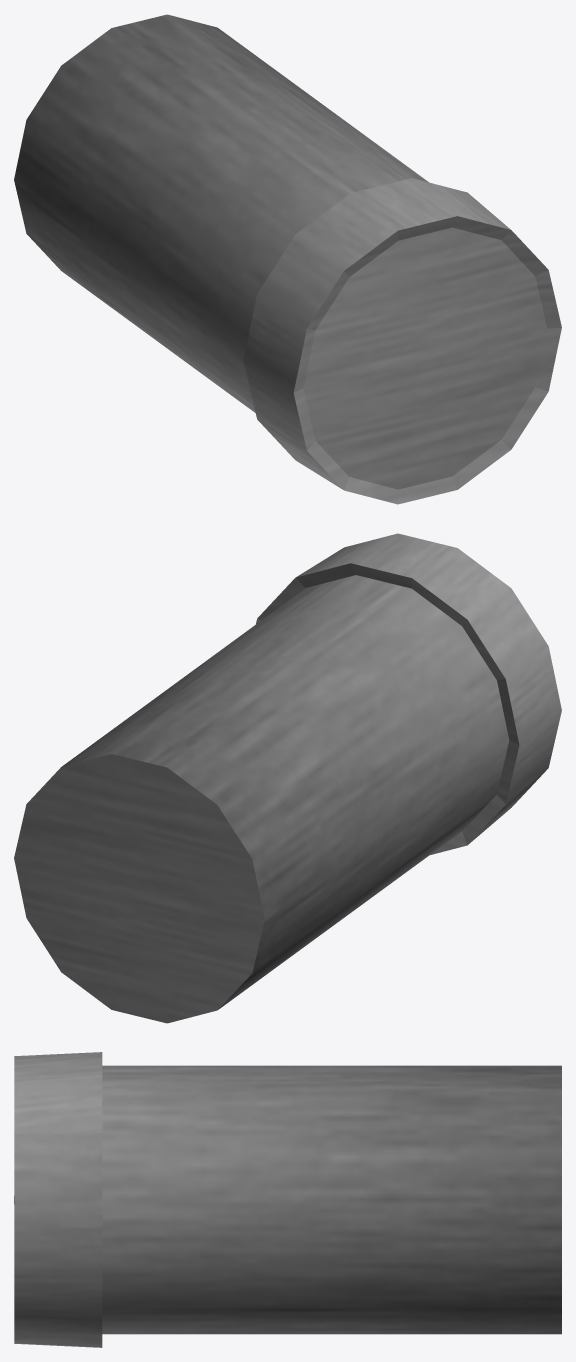
Rendered from pipe-cap-1x2.fbx.
3 views of the same model, one above another, from view 1: azimuth 30°, elevation 25°; view 2: azimuth 150°, elevation 25°; view 3: azimuth 270°, elevation 25° (orthographic). The views are drawn at different scales.
Parts seen in each view (by area): view 1: pipe_1x5; view 2: pipe_1x5; view 3: pipe_1x5.
Part boxes in pixels (<box>): pipe_1x5: <box>14,14,561,504</box>; pipe_1x5: <box>14,533,561,1023</box>; pipe_1x5: <box>14,1052,561,1347</box>.
Bounding box in the file's own units: 106 × 104 × 193.
